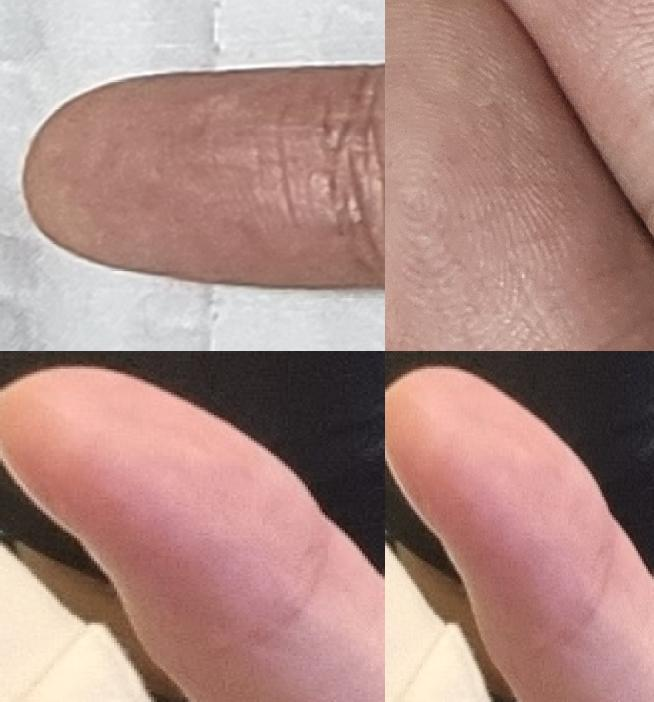Fingerprints: (385, 0, 654, 351), (0, 368, 321, 647), (20, 64, 380, 287), (385, 368, 610, 647)
